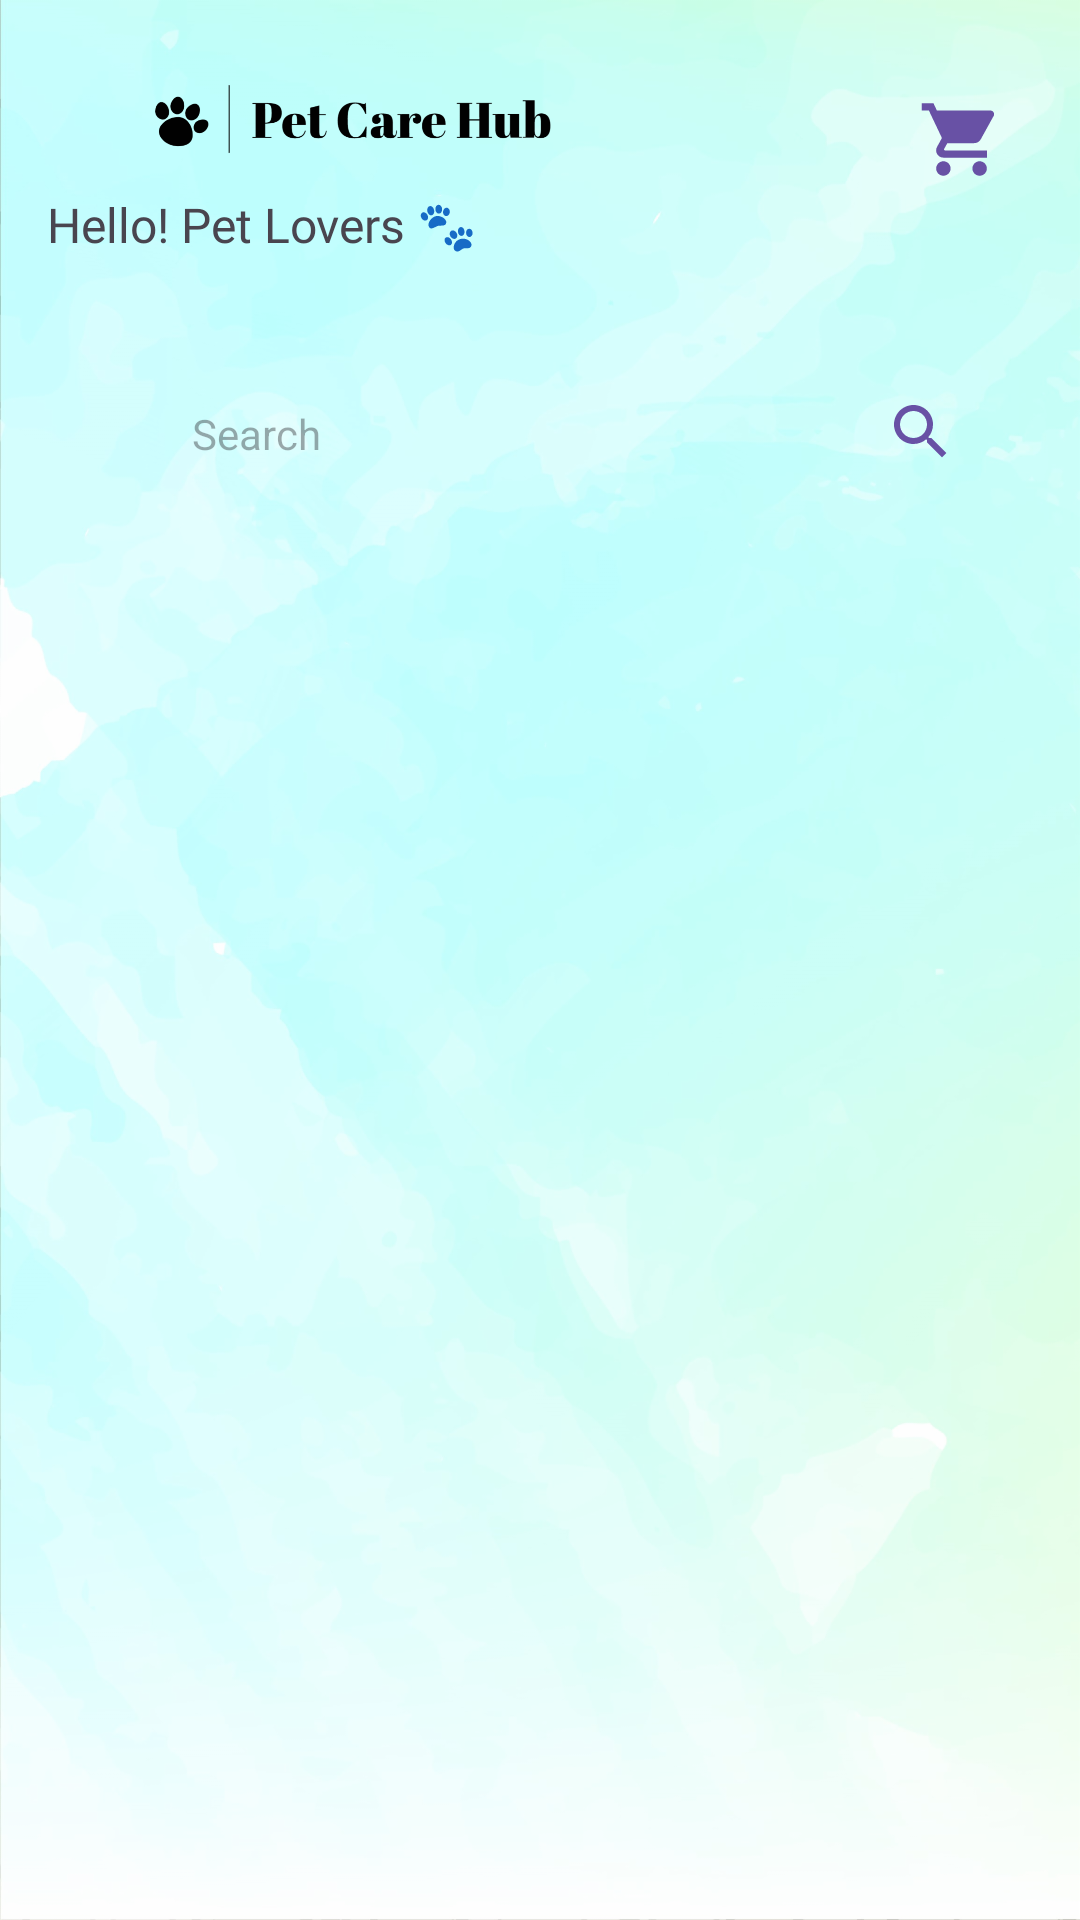

Locate icon controls on the screen. Image size 1080 x 1920, boxes as rect(x1, y1, x2, y2).
shopping cart: rect(921, 103, 994, 176)
